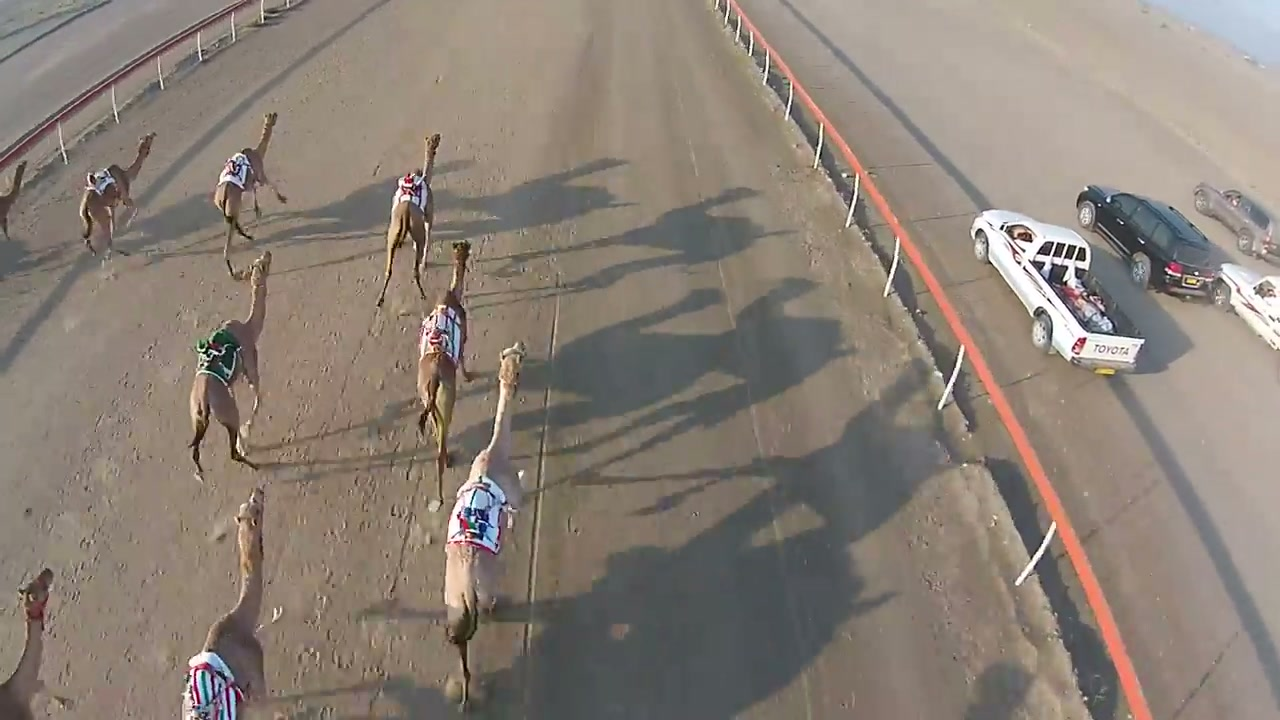animal_foot_print: (55, 266, 237, 615), (311, 311, 439, 713)
